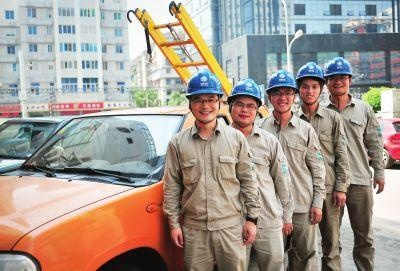blue: (186, 70, 222, 126), (228, 80, 262, 126), (266, 70, 297, 115), (323, 56, 353, 100), (295, 60, 323, 106)
